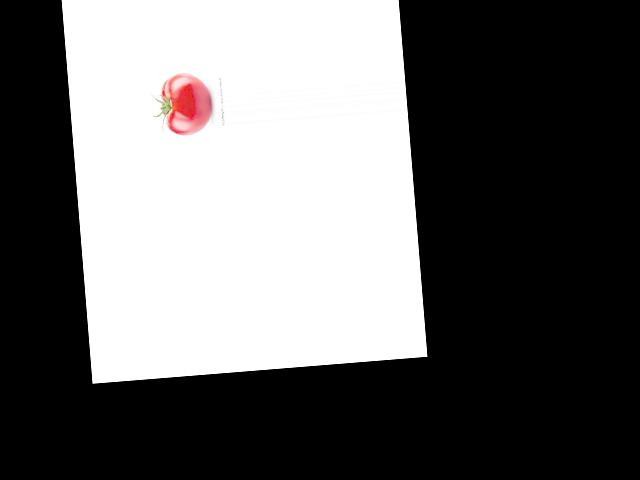tomato: (160, 71, 213, 137)
